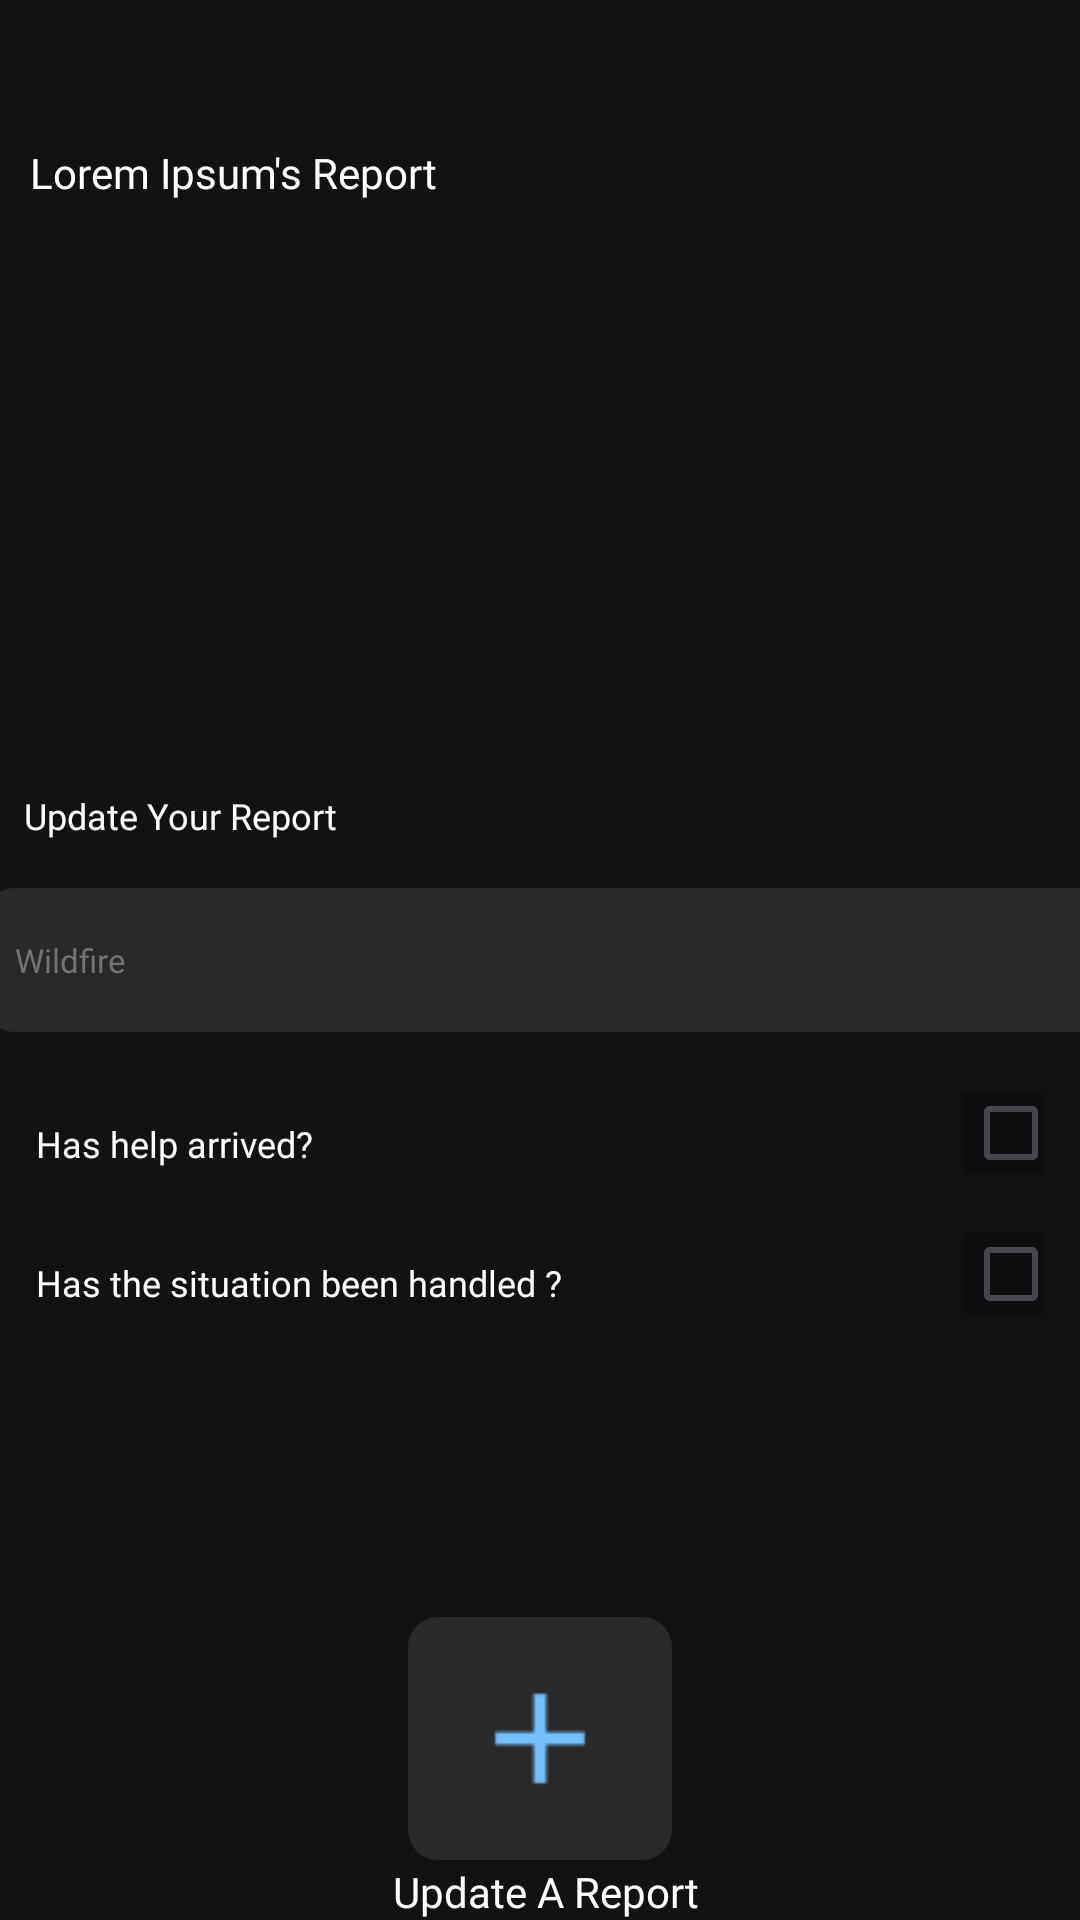

Where icons sit on this 1080px x 1920px app screen, as (x1, y1, x2, y2):
plus: (408, 1617, 672, 1860)
